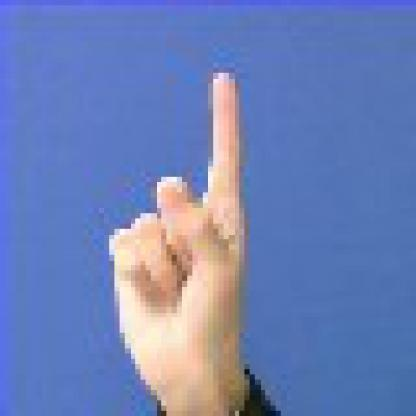one: (98, 62, 264, 396)
